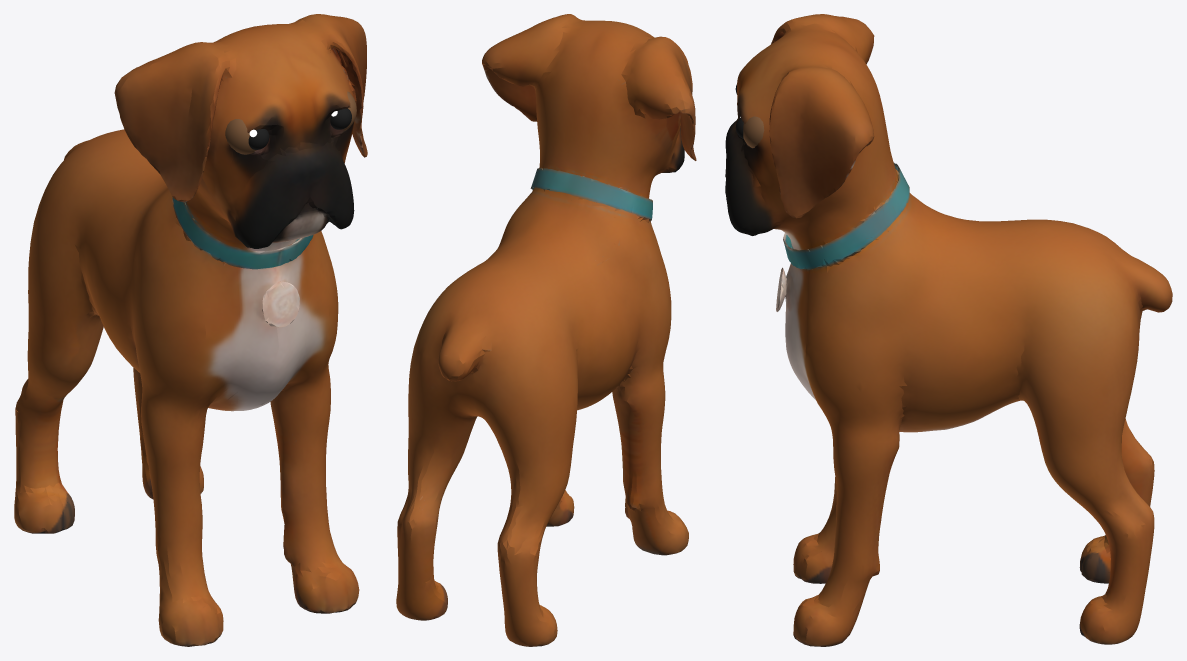
File: bentley_bench_v2_eyes.glb
The picture shows the model from 3 angles, left to right: view 1: azimuth 30°, elevation 25°; view 2: azimuth 150°, elevation 25°; view 3: azimuth 270°, elevation 25°; orthographic projection. The views are drawn at different scales.
Visible parts, largest first — view 1: Bentley_Rodin_MV, Eye_R; view 2: Bentley_Rodin_MV; view 3: Bentley_Rodin_MV.
Part boxes in pixels (bbox=[...]): Bentley_Rodin_MV: bbox=[14, 14, 367, 646]; Eye_R: bbox=[225, 119, 256, 154]; Bentley_Rodin_MV: bbox=[396, 14, 696, 646]; Bentley_Rodin_MV: bbox=[725, 14, 1172, 646].
Size of the model in its own units: 0.8298 by 1.9 by 1.36.
Materials: 4 (1 with a texture image).
